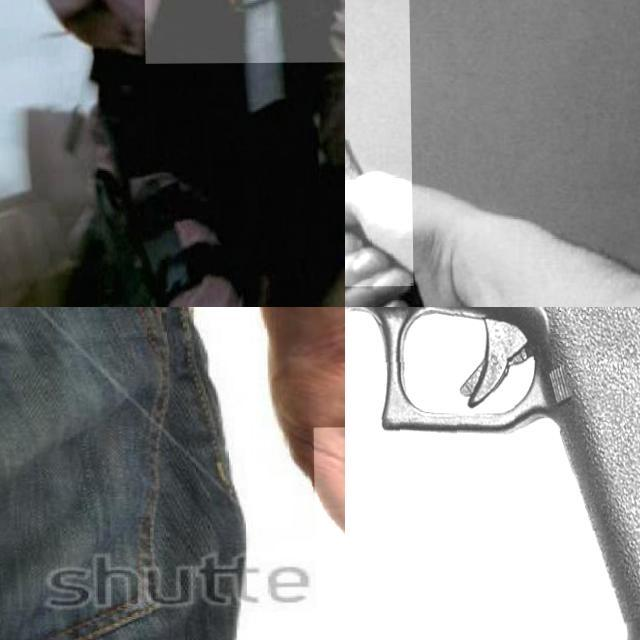-: (345, 0, 459, 287)
gun-knife-thesis - v11 Yolov5 augmented: (345, 307, 640, 640), (141, 0, 345, 126)
